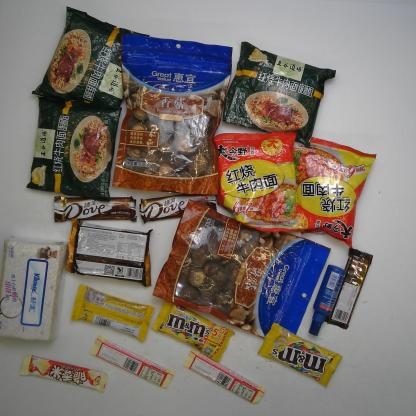Chocolate: (256, 322, 341, 388), (150, 300, 236, 362), (69, 283, 155, 341), (87, 335, 175, 391), (181, 348, 266, 405), (326, 246, 372, 333), (17, 353, 108, 392), (138, 190, 218, 224), (51, 195, 138, 224)
Dessert: (65, 218, 152, 288)
Dried Food: (150, 198, 330, 342), (112, 34, 233, 197)
Instant Noodles: (33, 6, 150, 117), (217, 41, 336, 148), (273, 135, 377, 247), (25, 95, 123, 203), (208, 132, 301, 233)
Personal Hygiene: (306, 264, 346, 337)
Tissue: (1, 237, 65, 343)
